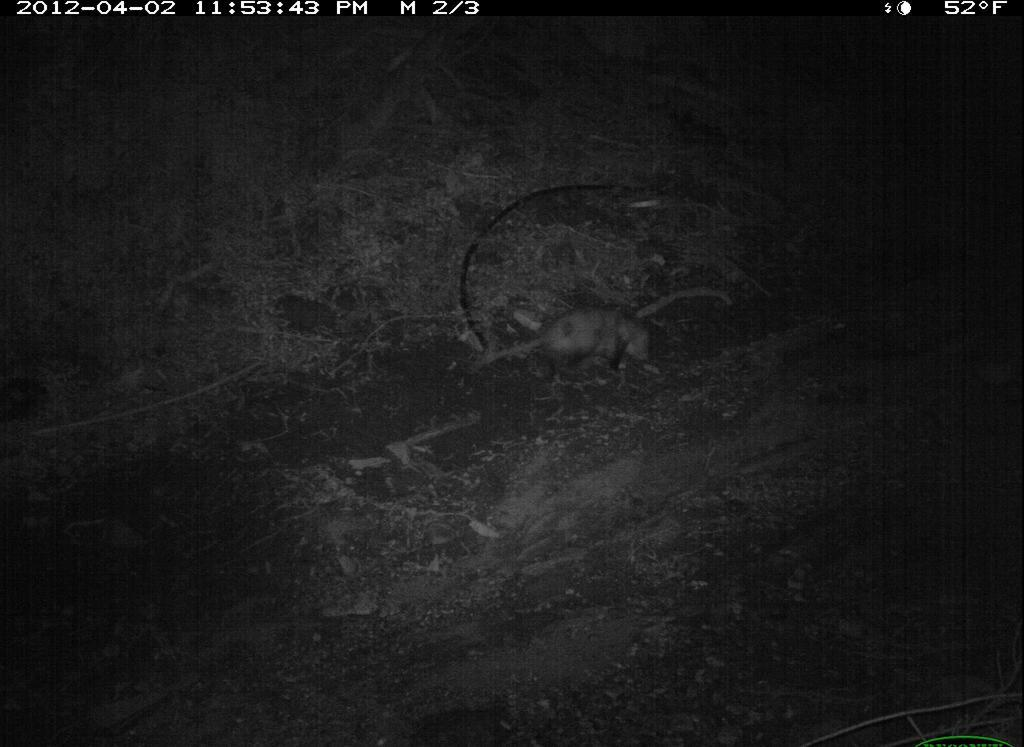opossum: (461, 303, 665, 388)
